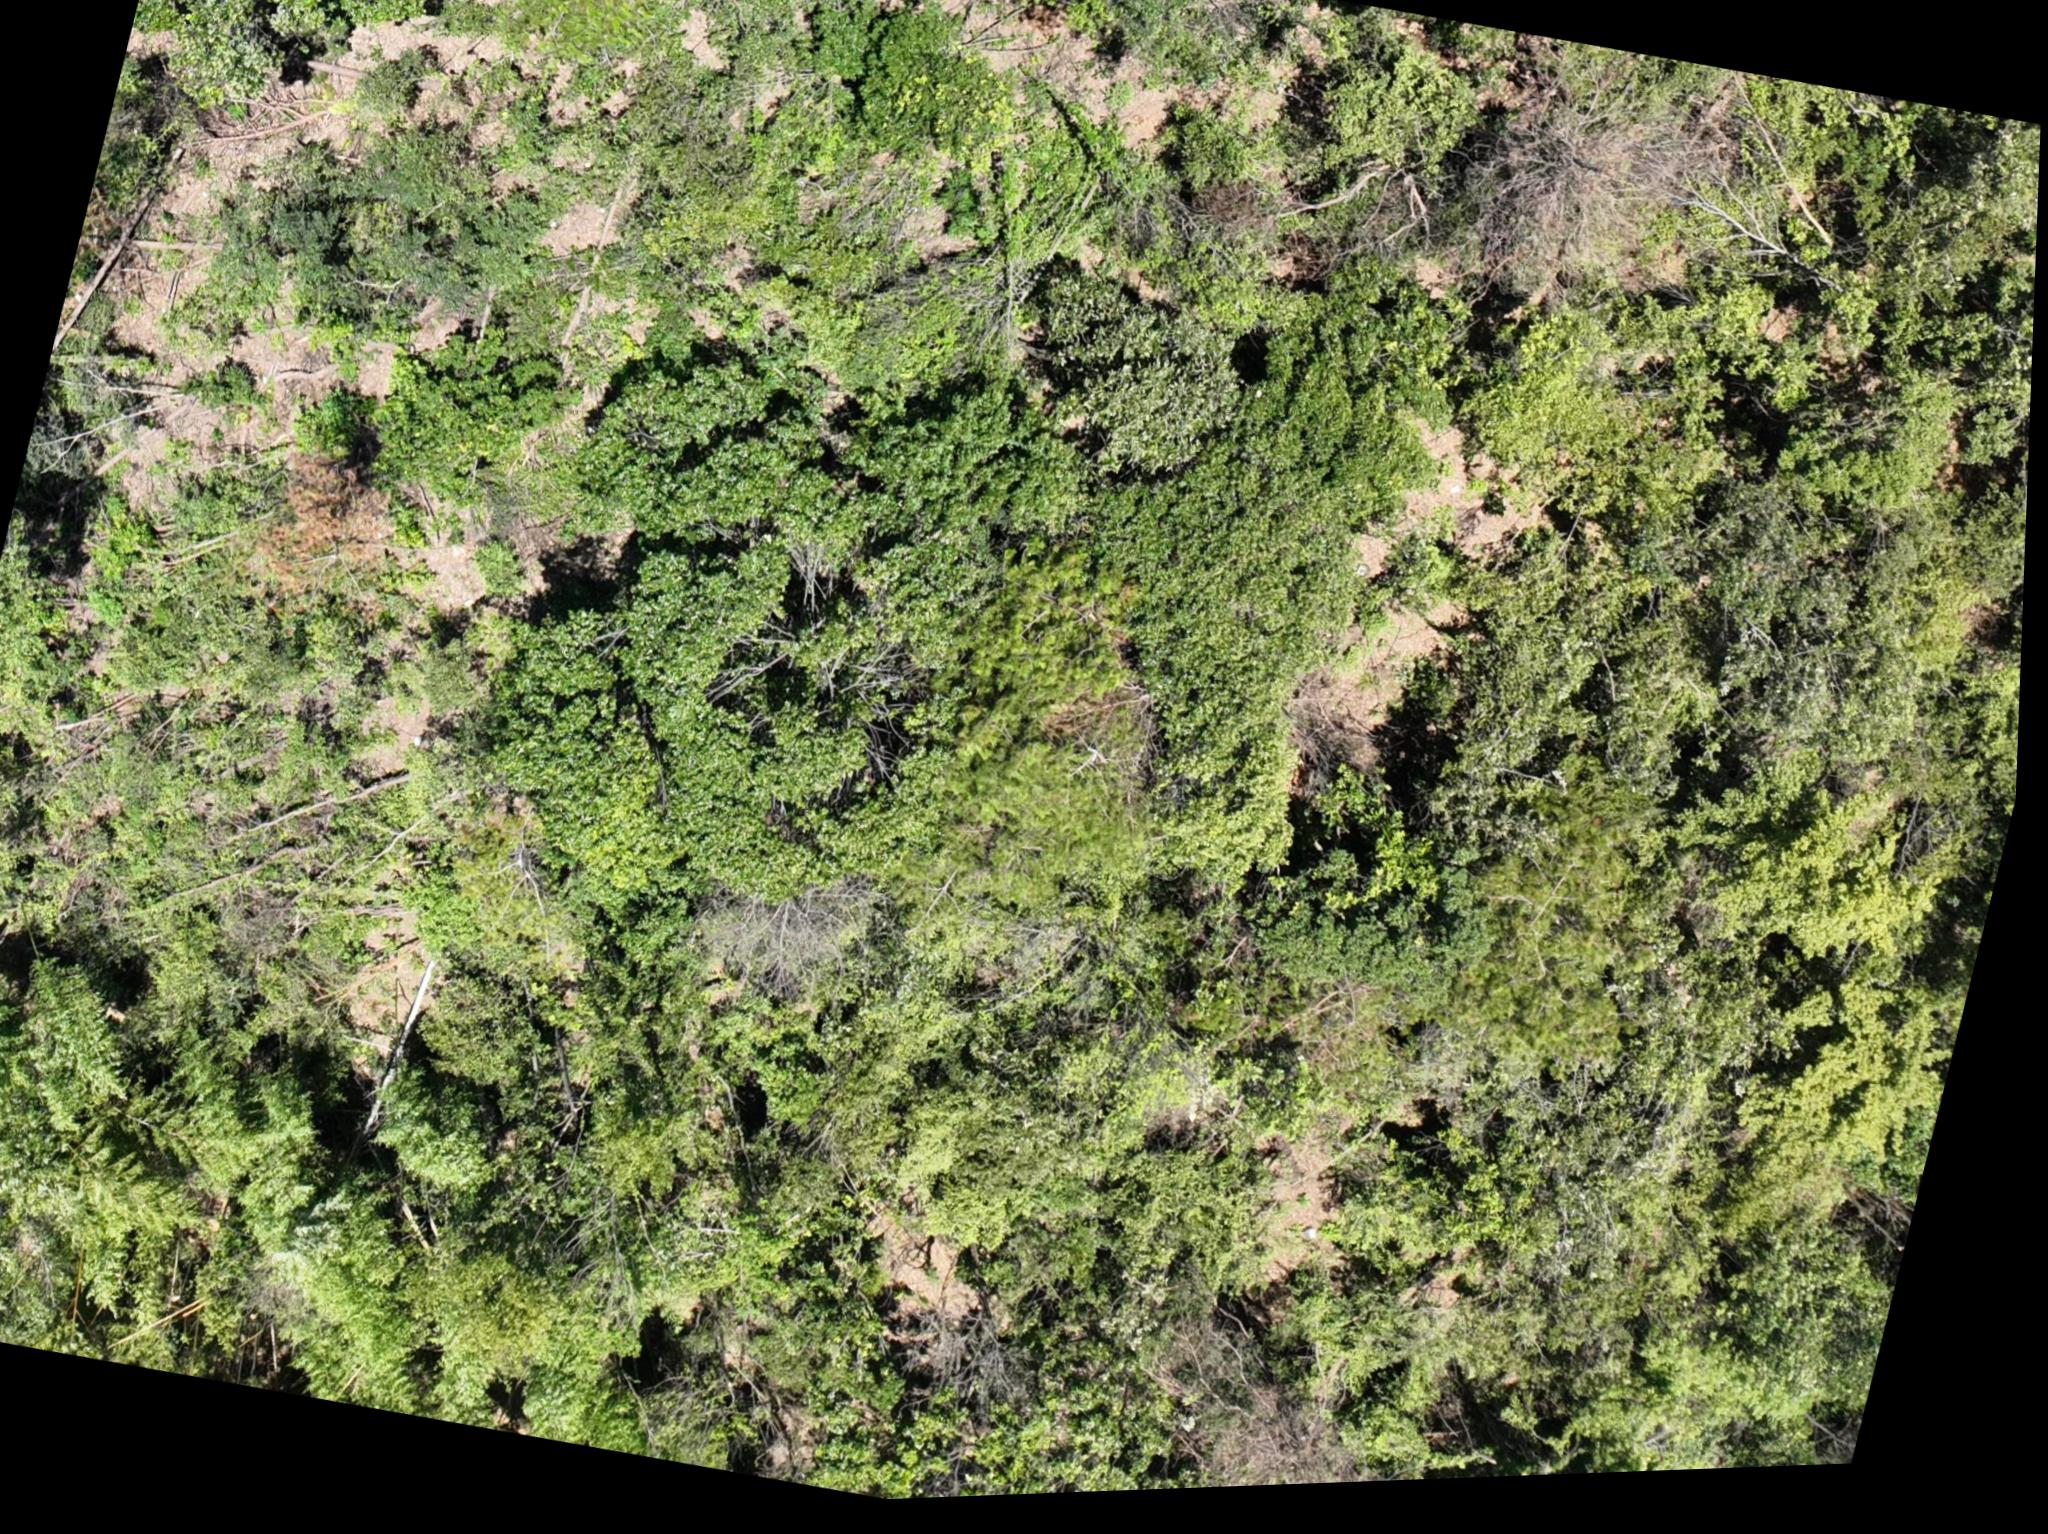dead: (1463, 102, 1702, 324), (701, 869, 872, 1014), (1220, 1418, 1421, 1497)
heavy: (274, 446, 411, 598)
